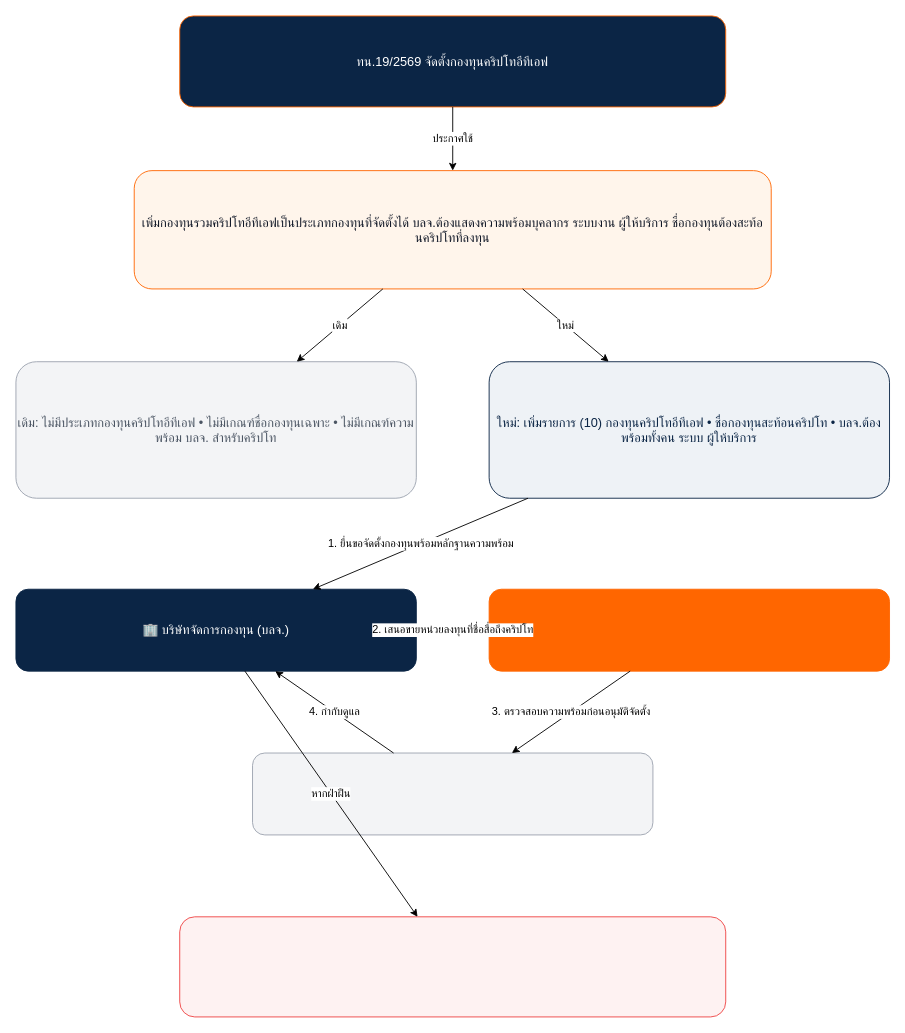
Some shapes in this 905 by 1033 pixel diagram are drawn without their labels. Here are the shapes that lost their labels. From the top down, the box of each, then its label:
(488, 588, 890, 671): 👤 ผู้ลงทุนทั่วไป
(252, 752, 653, 835): 🏛️ ก.ล.ต. / ก.ต.ท.
(179, 916, 726, 1017): ⚠️ ไม่มีโทษในตัวประกาศ ใช้กลไกกำกับตาม พ.ร.บ.หลักทรัพย์ฯ
